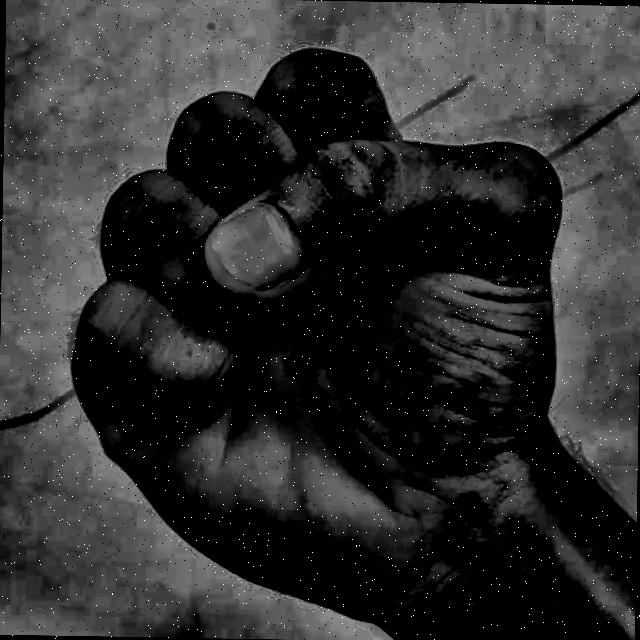Sha: (24, 19, 590, 640)
